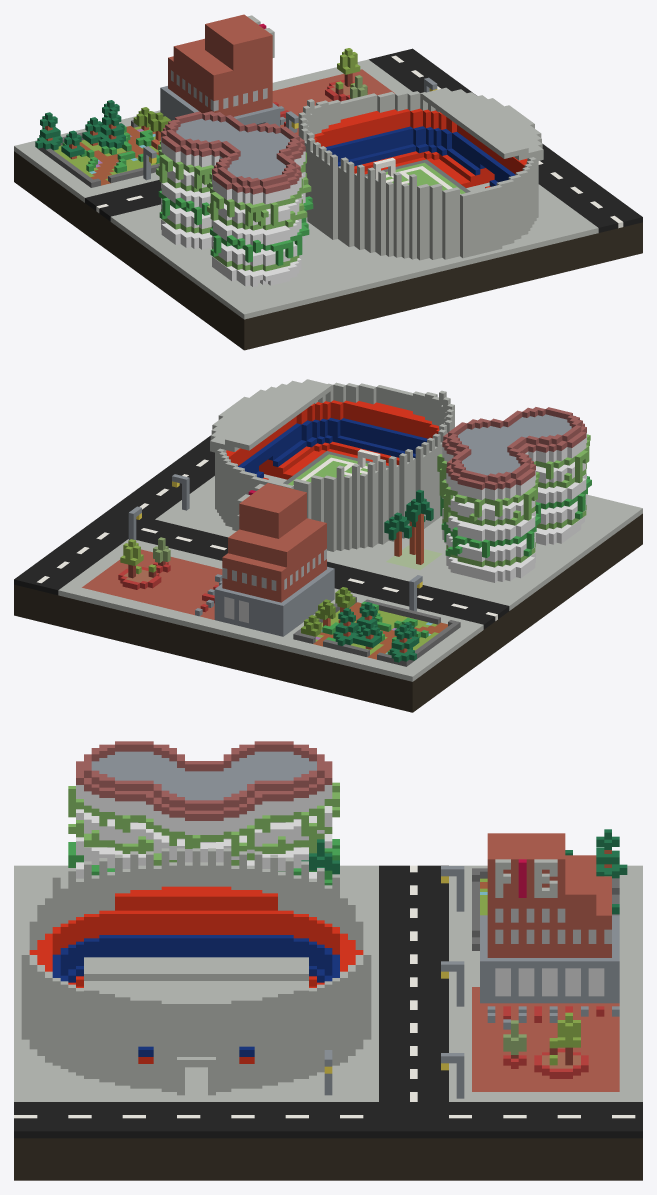
The model's file is nhood_5.glb.
The picture shows the model from 3 angles, top to bottom: view 1: azimuth 30°, elevation 25°; view 2: azimuth 150°, elevation 25°; view 3: azimuth 270°, elevation 25°; orthographic projection. The views are drawn at different scales.
Parts seen in each view (by area): view 1: Untitled.001; view 2: Untitled.001; view 3: Untitled.001.
Part boxes in pixels (x1=…): Untitled.001: x1=14, y1=14, x2=642, y2=350; Untitled.001: x1=14, y1=379, x2=642, y2=712; Untitled.001: x1=14, y1=741, x2=642, y2=1180.
Bounding box in the file's own units: 8.1 × 2.7 × 8.1.
1 material, 1 textured.
